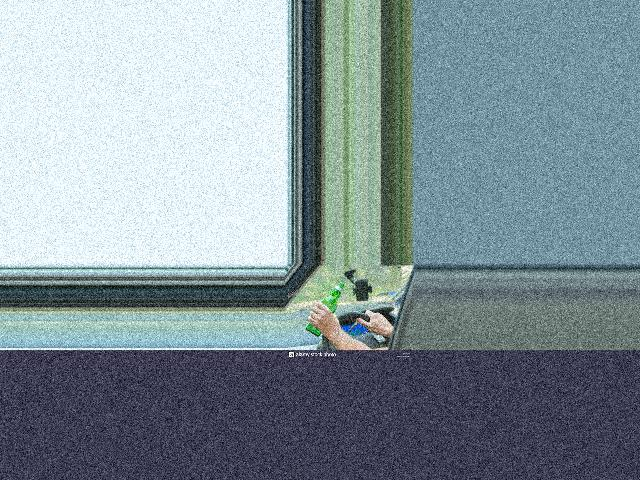beer: (307, 283, 344, 337)
